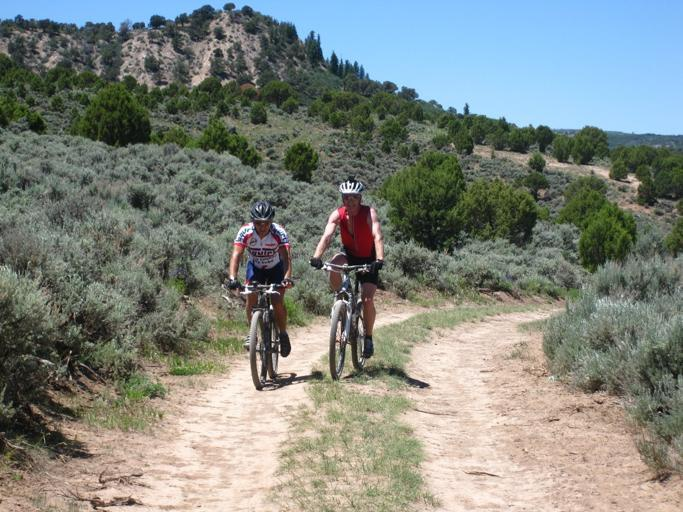non-vehicle: (307, 257, 380, 381), (219, 281, 289, 389)
